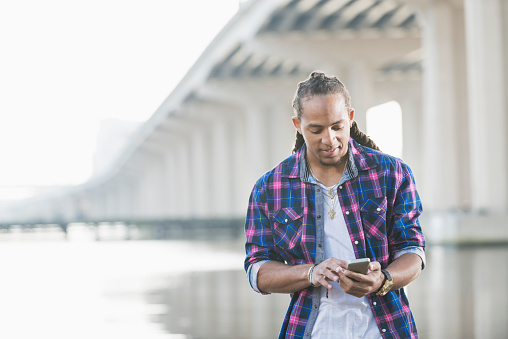em pe: (217, 80, 424, 339)
